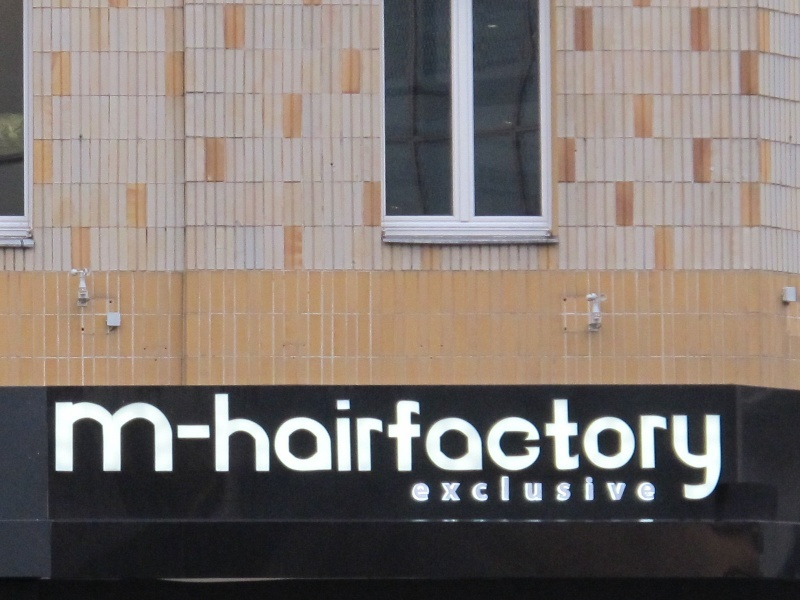text: (65, 393, 80, 506), (81, 393, 96, 506), (97, 393, 112, 506), (113, 393, 128, 506), (129, 393, 144, 506), (145, 393, 160, 506), (161, 393, 176, 506), (177, 393, 192, 506), (193, 393, 208, 506), (209, 393, 224, 506), (225, 393, 240, 506), (241, 393, 256, 506), (257, 393, 272, 506), (273, 393, 288, 506), (289, 393, 304, 506), (305, 393, 320, 506), (321, 393, 336, 506), (337, 393, 352, 506), (353, 393, 368, 506), (369, 393, 384, 506), (385, 393, 400, 506), (401, 393, 416, 506), (417, 393, 432, 506), (433, 393, 448, 506), (449, 393, 464, 506), (465, 393, 480, 506), (481, 393, 496, 506), (497, 393, 512, 506), (513, 393, 528, 506), (529, 393, 544, 506), (545, 393, 560, 506), (561, 393, 576, 506), (577, 393, 592, 506), (593, 393, 608, 506), (609, 393, 624, 506), (625, 393, 640, 506), (641, 393, 656, 506), (657, 393, 672, 506), (673, 393, 688, 506), (689, 393, 704, 506), (705, 393, 720, 506), (56, 393, 64, 506), (417, 477, 432, 507), (433, 477, 448, 507), (449, 477, 464, 507), (465, 477, 480, 507), (481, 477, 496, 507), (497, 477, 512, 507), (513, 477, 528, 507), (529, 477, 544, 507), (545, 477, 560, 507), (561, 477, 576, 507), (577, 477, 592, 507), (593, 477, 608, 507), (609, 477, 624, 507), (625, 477, 640, 507), (641, 477, 656, 507), (721, 393, 724, 506), (410, 477, 416, 507), (657, 477, 658, 507)
